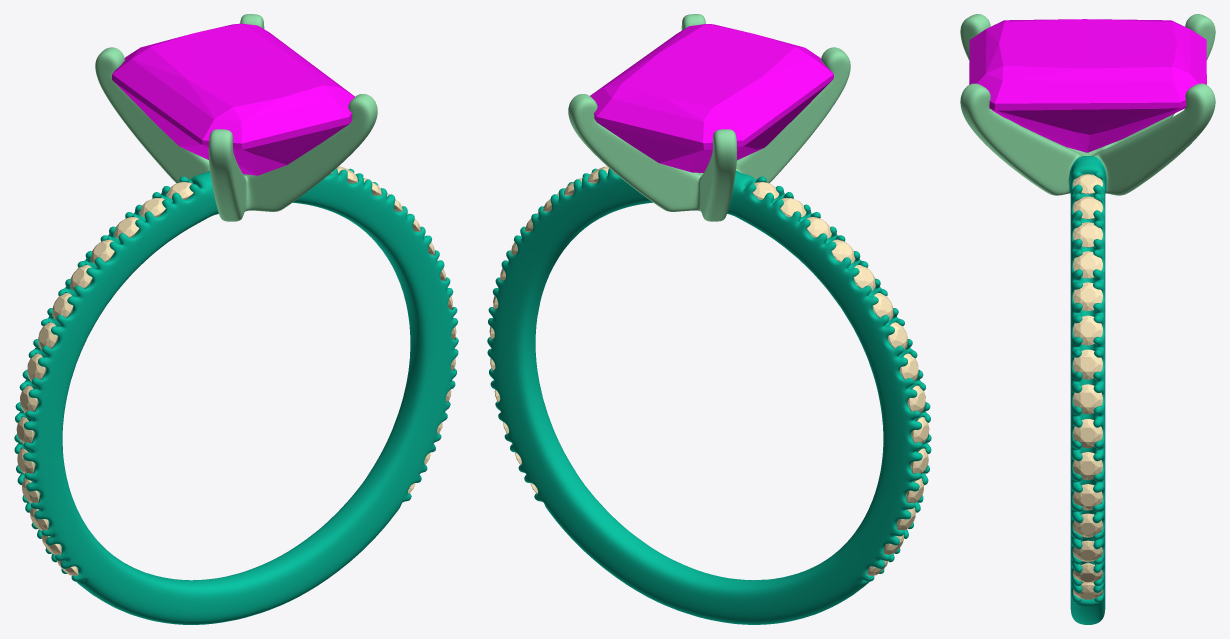
File: BE164_RA_200ct_RENDER.glb
The picture shows the model from 3 angles, left to right: view 1: azimuth 30°, elevation 25°; view 2: azimuth 150°, elevation 25°; view 3: azimuth 270°, elevation 25°; orthographic projection.
Visible parts, largest first — view 1: Metal 01, CS_Diamond_Radiant, Metal 02; view 2: Metal 01, CS_Diamond_Radiant, Metal 02; view 3: CS_Diamond_Radiant, Metal 02, Metal 01, Diamond_Round_Gem_SH.006, Diamond_Round_Gem_SH.007, Diamond_Round_Gem_SH.005, Diamond_Round_Gem_SH.008, Diamond_Round_Gem_SH.004, Diamond_Round_Gem_SH.009, Diamond_Round_Gem_SH.003, Diamond_Round_Gem_SH.010, Diamond_Round_Gem_SH.002 (+5 smaller).
Part boxes in pixels (<box>): Metal 01: <box>14,168,458,624</box>; CS_Diamond_Radiant: <box>112,23,354,175</box>; Metal 02: <box>95,14,377,221</box>; Metal 01: <box>487,168,931,624</box>; CS_Diamond_Radiant: <box>590,24,833,172</box>; Metal 02: <box>568,14,850,221</box>; CS_Diamond_Radiant: <box>969,19,1206,152</box>; Metal 02: <box>960,14,1215,195</box>; Metal 01: <box>1069,156,1106,624</box>; Diamond_Round_Gem_SH.006: <box>1073,349,1102,379</box>; Diamond_Round_Gem_SH.007: <box>1073,384,1102,414</box>; Diamond_Round_Gem_SH.005: <box>1073,315,1102,345</box>; Diamond_Round_Gem_SH.008: <box>1073,419,1102,447</box>; Diamond_Round_Gem_SH.004: <box>1073,282,1102,311</box>; Diamond_Round_Gem_SH.009: <box>1073,452,1102,479</box>; Diamond_Round_Gem_SH.003: <box>1073,251,1102,278</box>; Diamond_Round_Gem_SH.010: <box>1073,484,1102,510</box>; Diamond_Round_Gem_SH.002: <box>1073,222,1102,247</box>.
Size of the model in its own units: 20.28 by 24.62 by 10.2.
